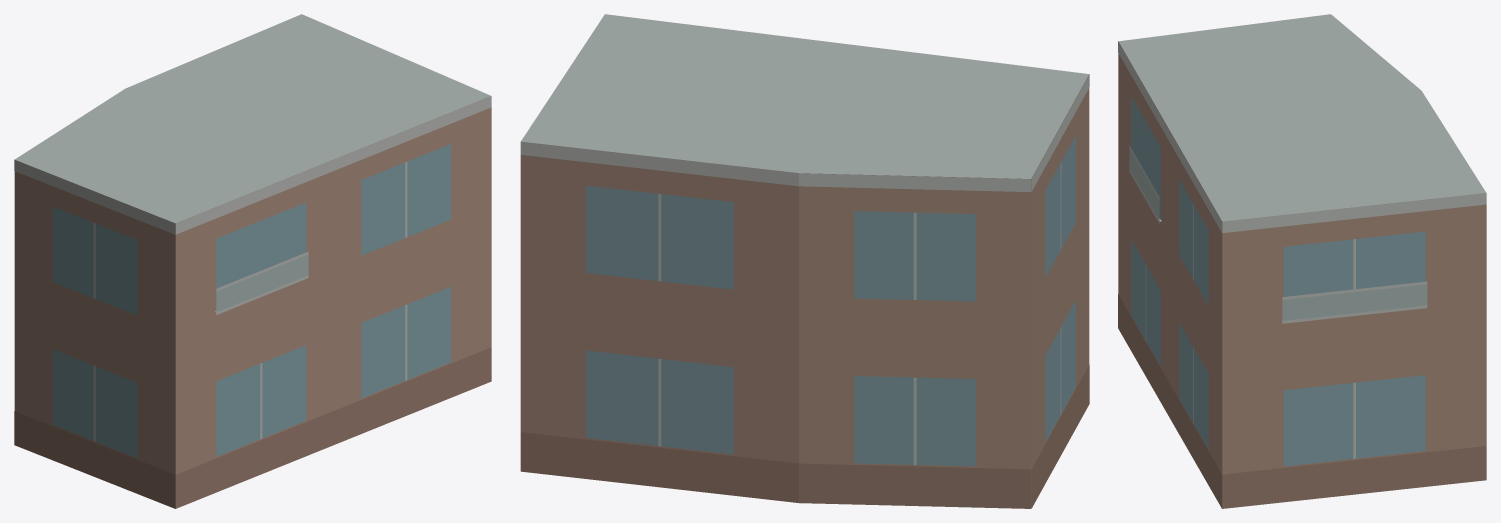
Rendered from survey-upis-33046786.glb.
3 renders of one model, left to right at view 1: azimuth 30°, elevation 25°; view 2: azimuth 150°, elevation 25°; view 3: azimuth 270°, elevation 25°, orthographic. The views are drawn at different scales.
Parts seen in each view (by area): view 1: survey-upis-33046786.tmp; view 2: survey-upis-33046786.tmp; view 3: survey-upis-33046786.tmp.
Boxes of the visible parts, x1,y1,x2,y2 form: survey-upis-33046786.tmp: (14,14,491,508); survey-upis-33046786.tmp: (520,14,1089,508); survey-upis-33046786.tmp: (1118,14,1486,508).
Size of the model in its own units: 9.47 by 6.1 by 7.1.
